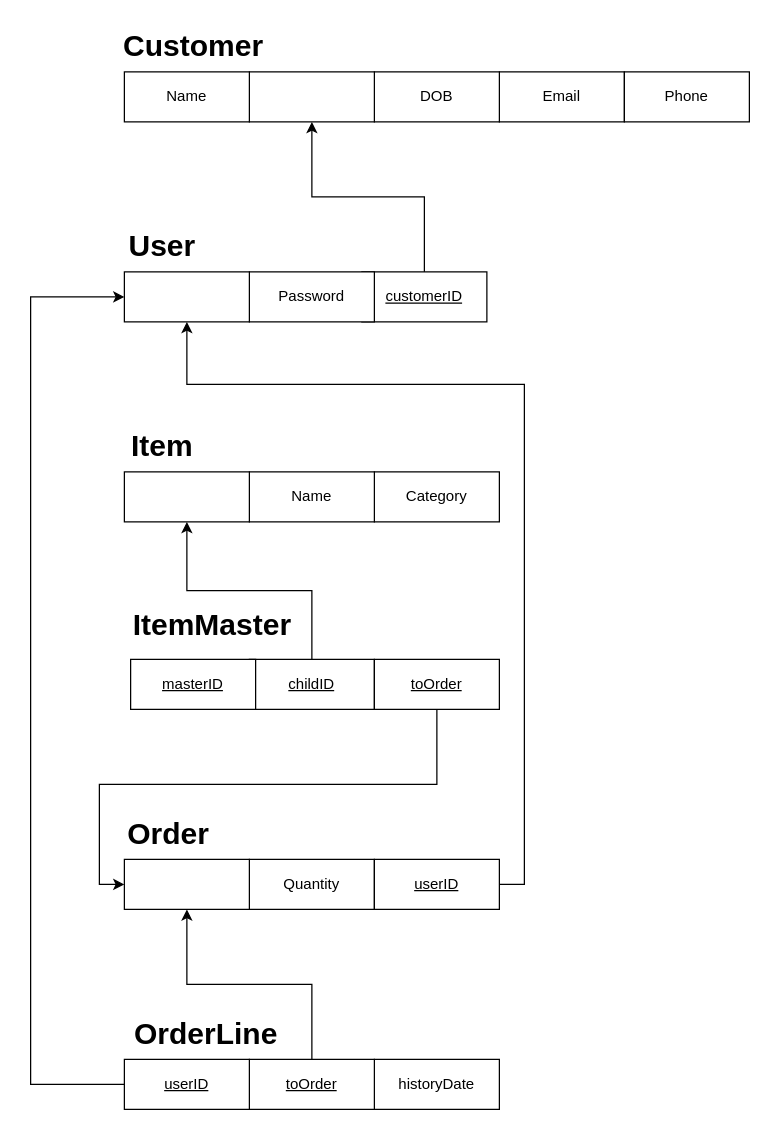
This 771x1131 diagram has some shape labels left out. Here are the shapes that lost their labels. From the top down, the centre of each, then its label:
pixel 311 96: ID
pixel 186 296: pID
pixel 186 496: qID
pixel 186 883: orderID
